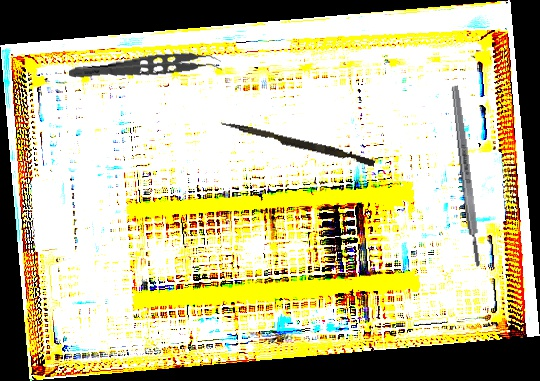Pusher: (218, 120, 377, 167)
Scalpel Handle: (449, 84, 484, 268)
Tissue Forceps: (67, 46, 223, 92)
